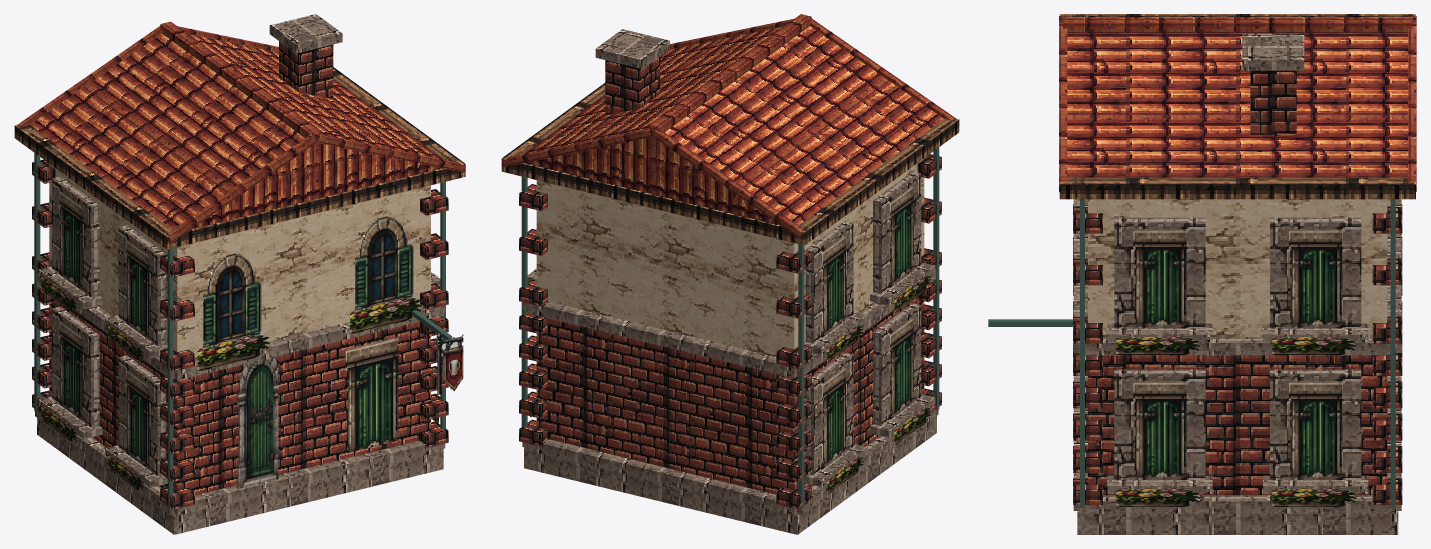
Rendered from townhouse.glb.
3 renders of one model, left to right at view 1: azimuth 30°, elevation 25°; view 2: azimuth 150°, elevation 25°; view 3: azimuth 270°, elevation 25°, orthographic. The views are drawn at different scales.
Visible parts, largest first — view 1: townhouse_p9_roof, townhouse_p9_brick, townhouse_p9_stone, townhouse_p9_plaster, townhouse_p9_window_shutter, townhouse_p9_wood, townhouse_p9_window_arch, townhouse_p9_flowerbox, townhouse_p9_door_green, townhouse_p9_iron, townhouse_p9_sign_banner; view 2: townhouse_p9_roof, townhouse_p9_brick, townhouse_p9_stone, townhouse_p9_plaster, townhouse_p9_wood, townhouse_p9_window_shutter, townhouse_p9_iron, townhouse_p9_flowerbox; view 3: townhouse_p9_roof, townhouse_p9_stone, townhouse_p9_brick, townhouse_p9_window_shutter, townhouse_p9_plaster, townhouse_p9_wood, townhouse_p9_flowerbox, townhouse_p9_iron.
Boxes of the visible parts, x1=… form: townhouse_p9_roof: x1=18, y1=21, x2=465, y2=243; townhouse_p9_brick: x1=32, y1=41, x2=448, y2=509; townhouse_p9_stone: x1=35, y1=14, x2=445, y2=534; townhouse_p9_plaster: x1=49, y1=164, x2=430, y2=359; townhouse_p9_window_shutter: x1=59, y1=190, x2=398, y2=466; townhouse_p9_wood: x1=14, y1=67, x2=465, y2=249; townhouse_p9_window_arch: x1=203, y1=216, x2=413, y2=346; townhouse_p9_flowerbox: x1=41, y1=273, x2=438, y2=490; townhouse_p9_door_green: x1=237, y1=356, x2=278, y2=488; townhouse_p9_iron: x1=34, y1=153, x2=452, y2=509; townhouse_p9_sign_banner: x1=436, y1=332, x2=463, y2=395; townhouse_p9_roof: x1=501, y1=14, x2=955, y2=239; townhouse_p9_brick: x1=519, y1=57, x2=941, y2=509; townhouse_p9_stone: x1=522, y1=29, x2=938, y2=534; townhouse_p9_plaster: x1=536, y1=158, x2=924, y2=356; townhouse_p9_wood: x1=501, y1=83, x2=959, y2=245; townhouse_p9_window_shutter: x1=823, y1=185, x2=913, y2=465; townhouse_p9_iron: x1=521, y1=147, x2=939, y2=509; townhouse_p9_flowerbox: x1=530, y1=268, x2=931, y2=494; townhouse_p9_roof: x1=1059, y1=16, x2=1416, y2=191; townhouse_p9_stone: x1=1073, y1=33, x2=1401, y2=534; townhouse_p9_brick: x1=1073, y1=70, x2=1402, y2=504; townhouse_p9_window_shutter: x1=1133, y1=229, x2=1342, y2=476; townhouse_p9_plaster: x1=1088, y1=199, x2=1387, y2=336; townhouse_p9_wood: x1=1059, y1=14, x2=1415, y2=199; townhouse_p9_flowerbox: x1=1116, y1=335, x2=1357, y2=506; townhouse_p9_iron: x1=988, y1=199, x2=1395, y2=507.
Bounding box in the file's own units: 5.66 × 7.08 × 6.01.
Materials: 12 (10 with a texture image).
